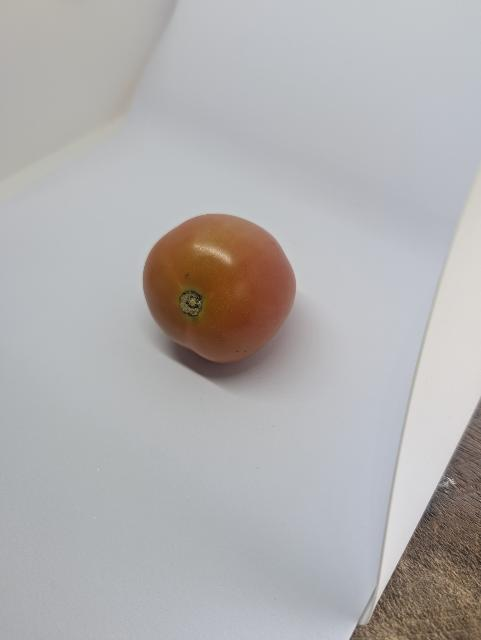red: (139, 213, 307, 376)
